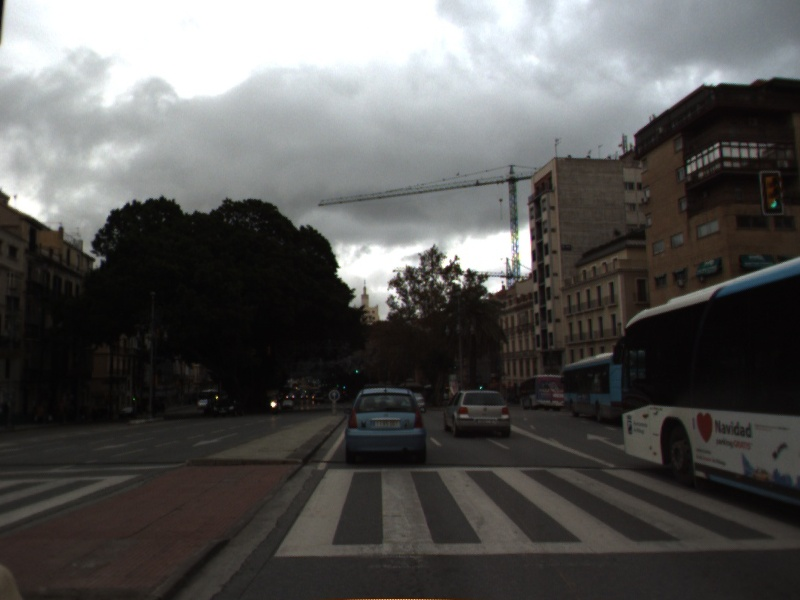STRAIGHT: (584, 431, 627, 453)
